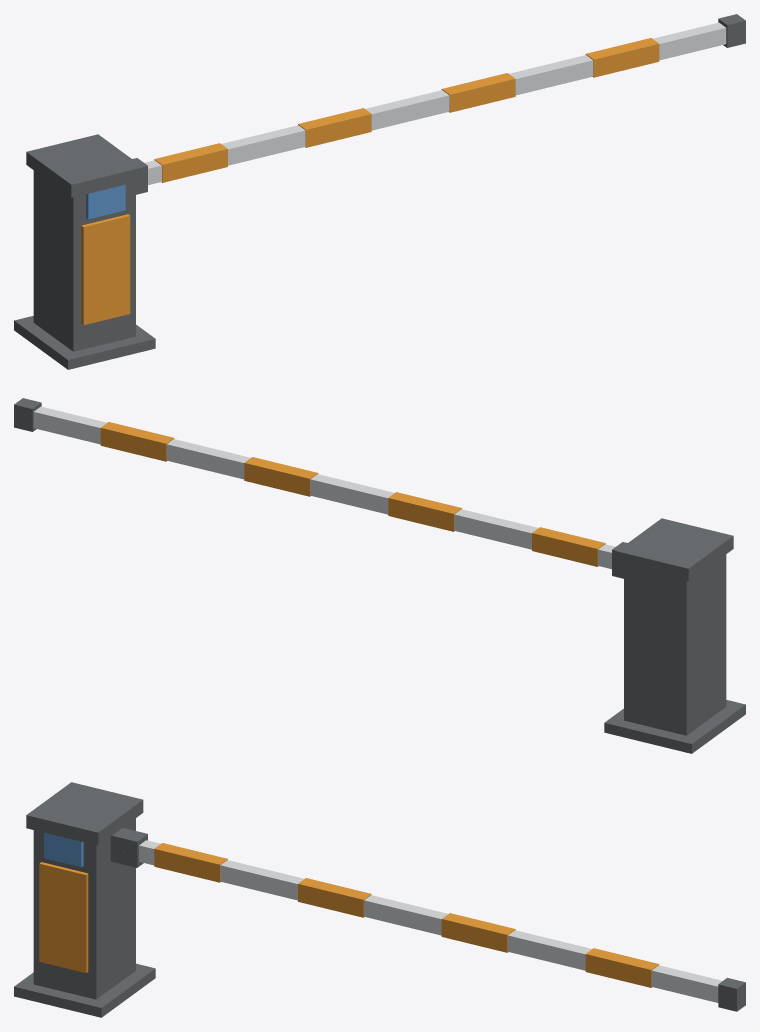
The model's file is recycling-and-waste-transfer-yard-recycling-and-waste--5630ea49__34924.glb.
3 views of the same model, one above another, from view 1: azimuth 30°, elevation 25°; view 2: azimuth 150°, elevation 25°; view 3: azimuth 330°, elevation 25° (orthographic).
Visible parts, largest first — view 1: recycling-and-waste-transfer-yard-entrance-barrier-arm, barrier-arm/steel, barrier-arm/orange, barrier-arm/charcoal; view 2: recycling-and-waste-transfer-yard-entrance-barrier-arm, barrier-arm/steel, barrier-arm/orange, barrier-arm/charcoal; view 3: recycling-and-waste-transfer-yard-entrance-barrier-arm, barrier-arm/steel, barrier-arm/orange, barrier-arm/charcoal.
Boxes of the visible parts, left/top/right/bottom form: recycling-and-waste-transfer-yard-entrance-barrier-arm: left=14, top=134, right=155, bottom=369; barrier-arm/steel: left=144, top=22, right=726, bottom=185; barrier-arm/orange: left=154, top=38, right=659, bottom=182; barrier-arm/charcoal: left=132, top=14, right=745, bottom=194; recycling-and-waste-transfer-yard-entrance-barrier-arm: left=604, top=518, right=745, bottom=753; barrier-arm/steel: left=33, top=406, right=615, bottom=569; barrier-arm/orange: left=100, top=422, right=605, bottom=566; barrier-arm/charcoal: left=14, top=398, right=627, bottom=578; recycling-and-waste-transfer-yard-entrance-barrier-arm: left=14, top=782, right=155, bottom=1017; barrier-arm/steel: left=139, top=840, right=722, bottom=1002; barrier-arm/orange: left=154, top=843, right=659, bottom=987; barrier-arm/charcoal: left=110, top=828, right=745, bottom=1011.
Size of the model in its own units: 4.48 by 1.1 by 0.6.
